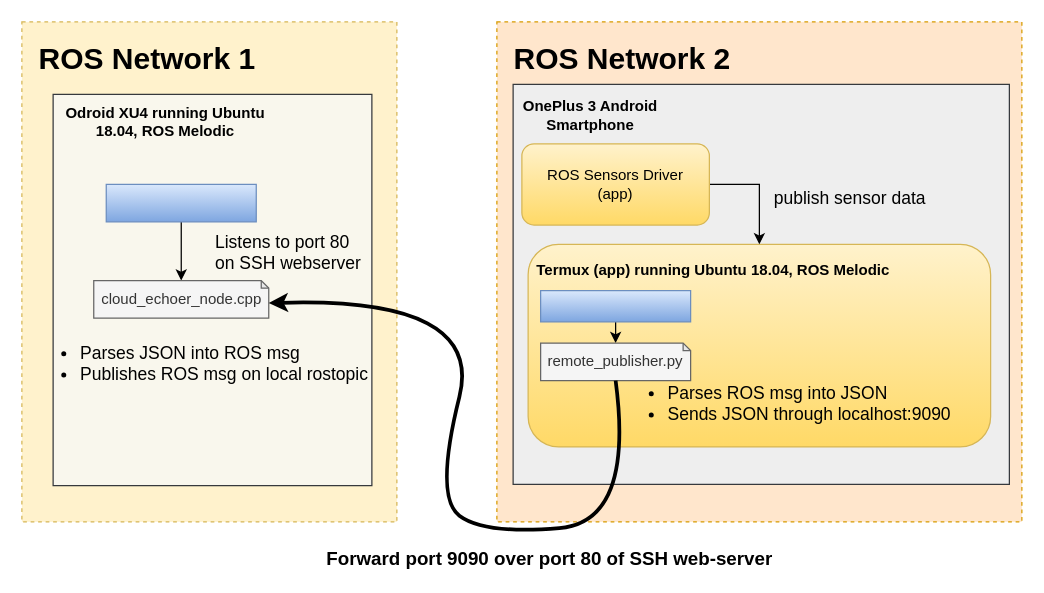
Some shapes in this 1044 by 593 pixel diagram are drawn without their labels. Here are the shapes that lost their labels. From the top down, the centre of each, then its label:
At point (180, 202): "rosbridgecpp".
At point (615, 305): "roslibpy".
